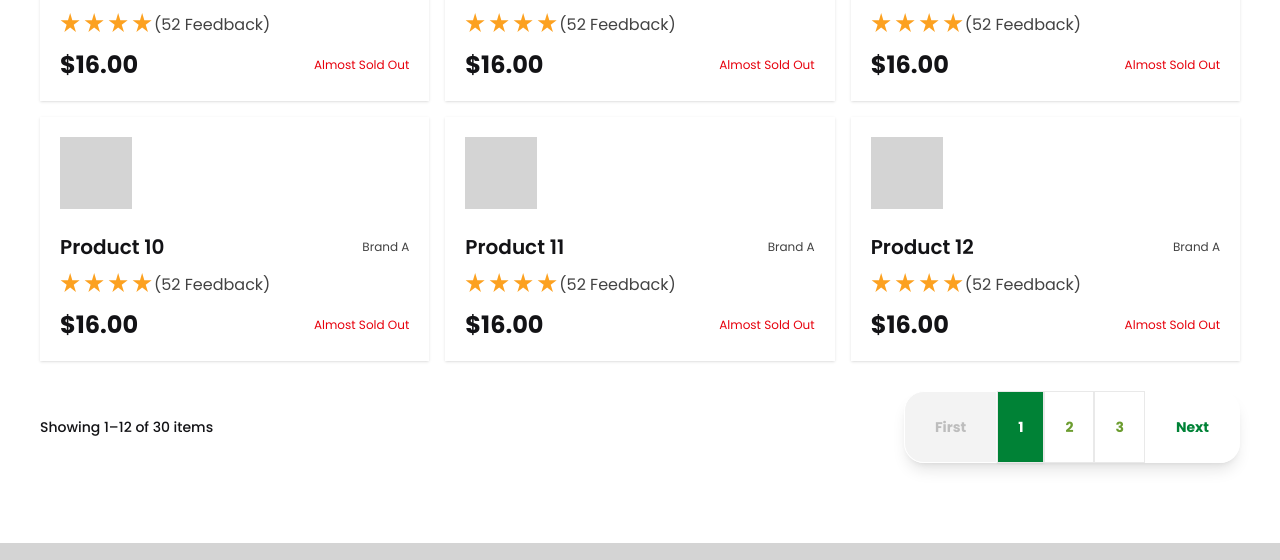
Shop page pagination logic › displays correct "Showing x–y of z items" text
(page scrolled)
Expected: the text "Showing 1–12 of 30 items" is shown, x1=40 y1=417 x2=213 y2=437
Click the link "3" at [1120, 427], box x1=1094 y1=391 x2=1145 y2=463
(page scrolled)
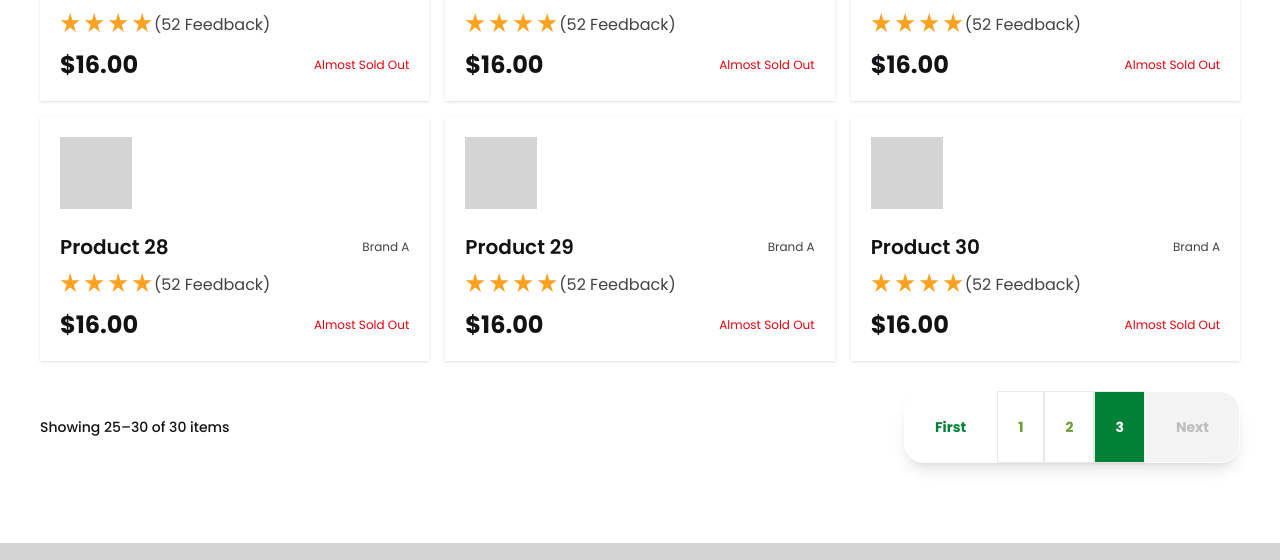
Now the text "Showing 25–30 of 30 items" is shown, box x1=40 y1=417 x2=230 y2=437
